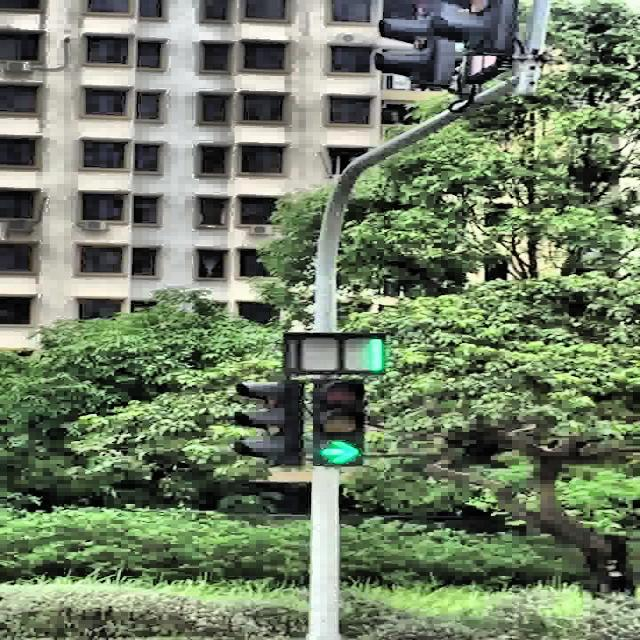green: (312, 378, 364, 466)
